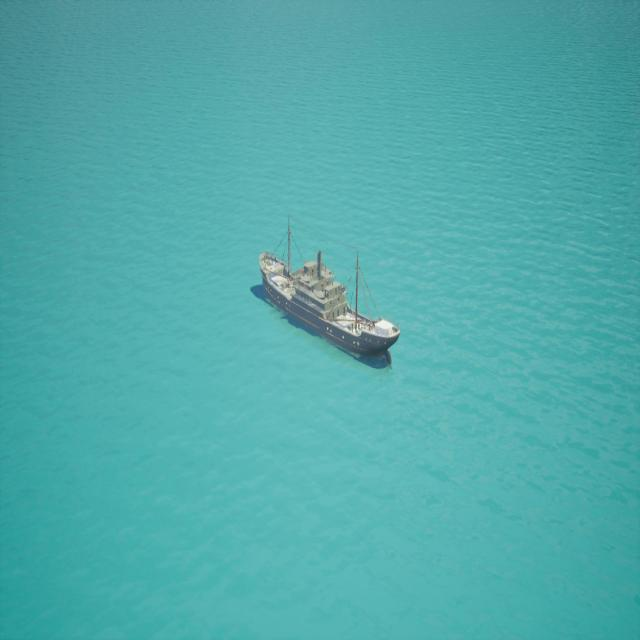fishing ship: (255, 229, 400, 370)
